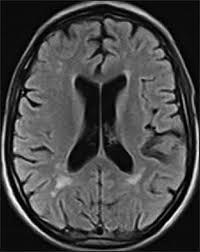Normal_Brain: (4, 1, 200, 252)
